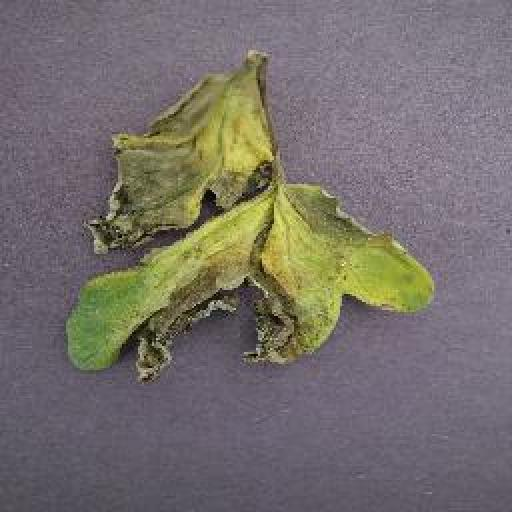disease_tomato: (63, 56, 433, 389)
